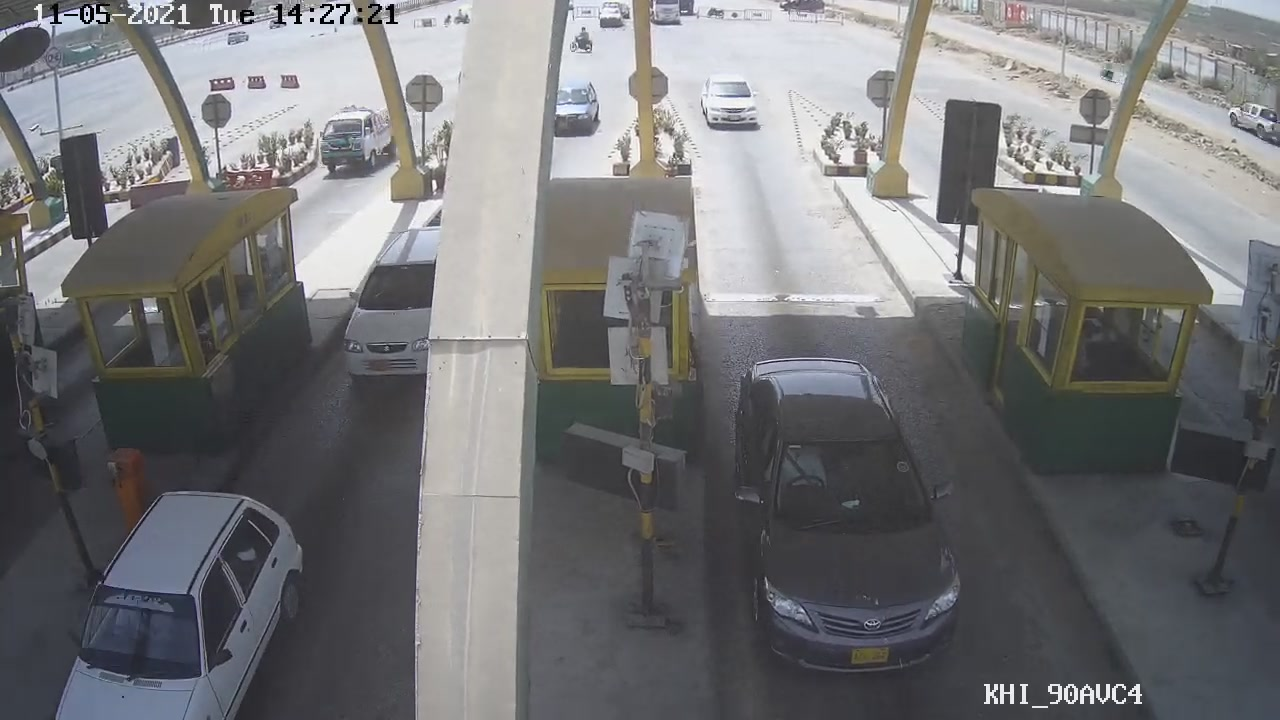F1: (728, 359, 967, 680)
